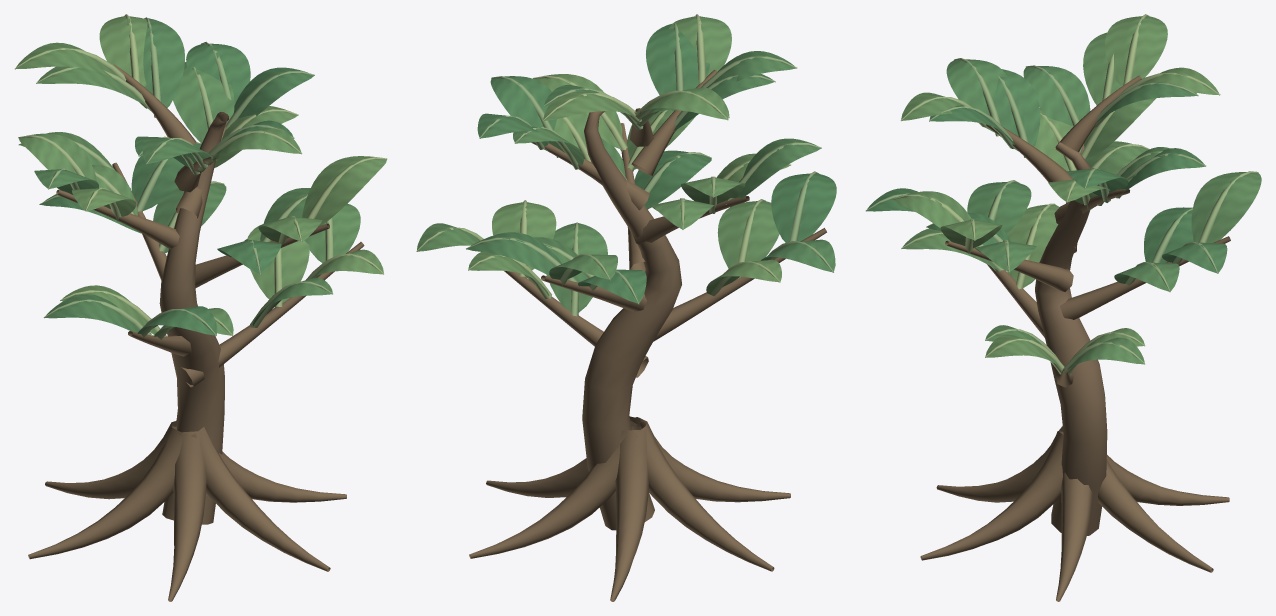
Rendered from sapling.glb.
The picture shows the model from 3 angles, left to right: view 1: azimuth 30°, elevation 25°; view 2: azimuth 150°, elevation 25°; view 3: azimuth 270°, elevation 25°; orthographic projection. The views are drawn at different scales.
Parts seen in each view (by area): view 1: leaves, body; view 2: leaves, body; view 3: leaves, body.
Part boxes in pixels (x1,y1,x2,y2): leaves: (14,14,387,339); body: (28,64,364,601); leaves: (416,14,836,316); body: (469,70,826,601); leaves: (865,14,1261,374); body: (920,75,1230,601).
Bounding box in the file's own units: 1.39 × 1.79 × 1.39.
